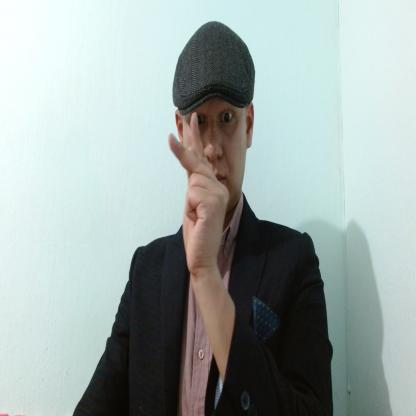P: (166, 111, 231, 278)
